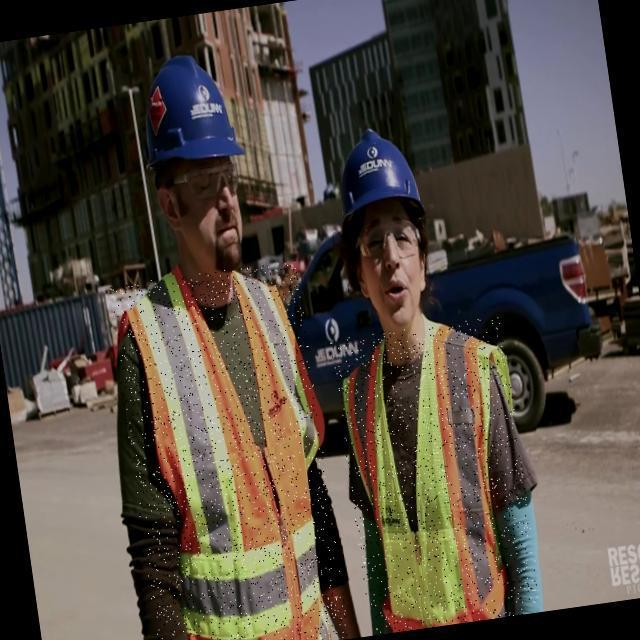helmet: (133, 45, 261, 180), (325, 121, 443, 237)
vest: (107, 259, 350, 640), (330, 316, 543, 636)
